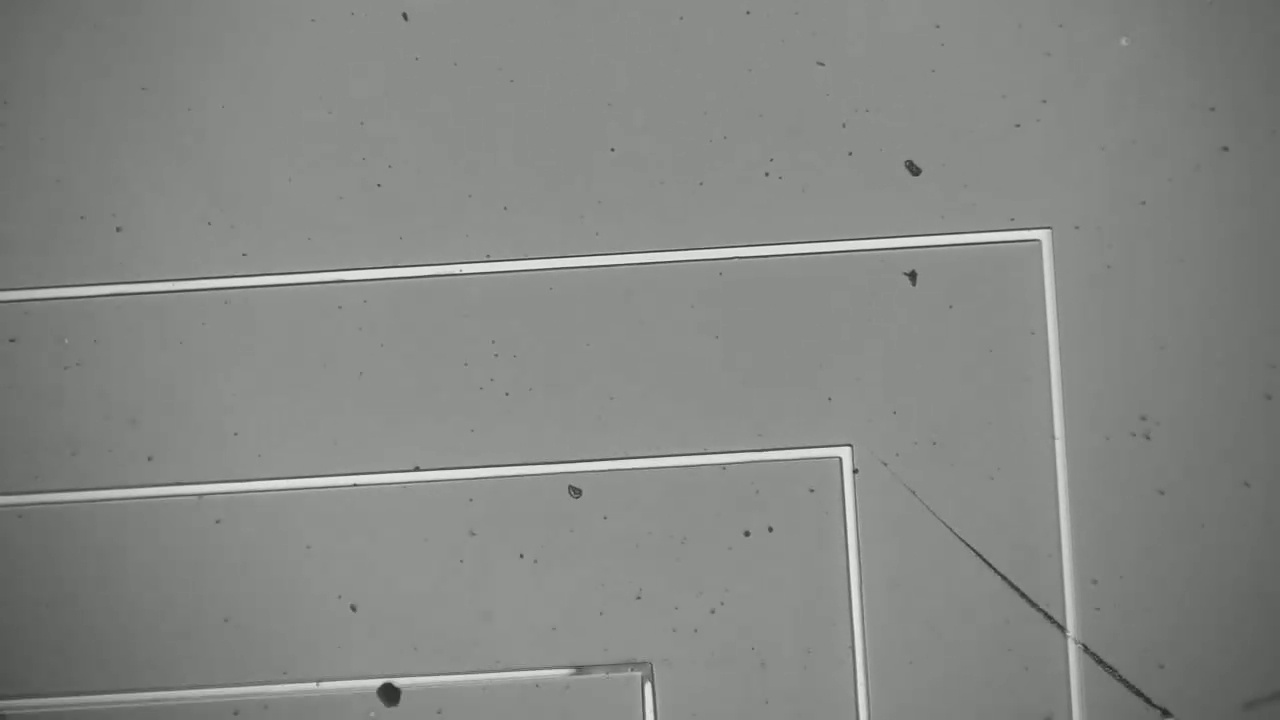gray_line: (550, 654, 670, 685), (629, 647, 660, 696)
scratch: (882, 468, 1174, 719)
stains_enbedded: (355, 657, 420, 716)
